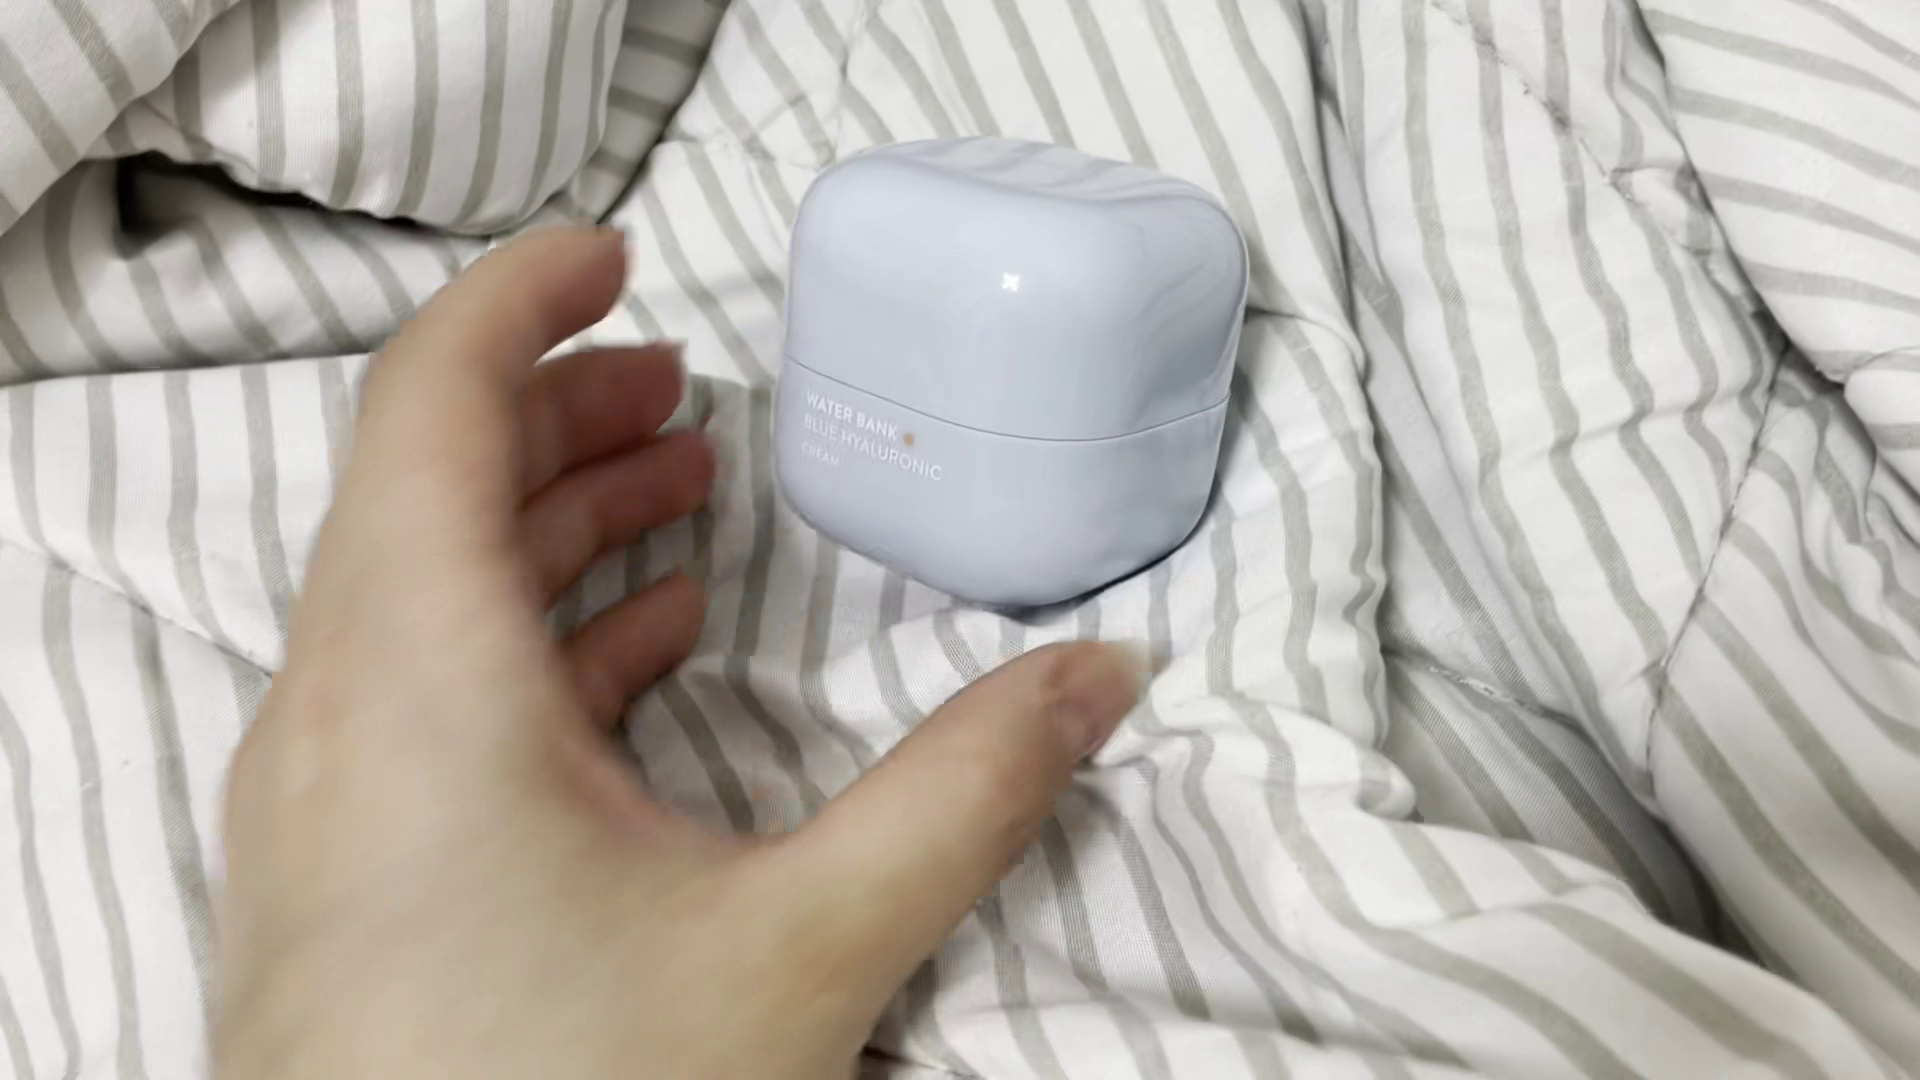cream: (769, 131, 1244, 599)
